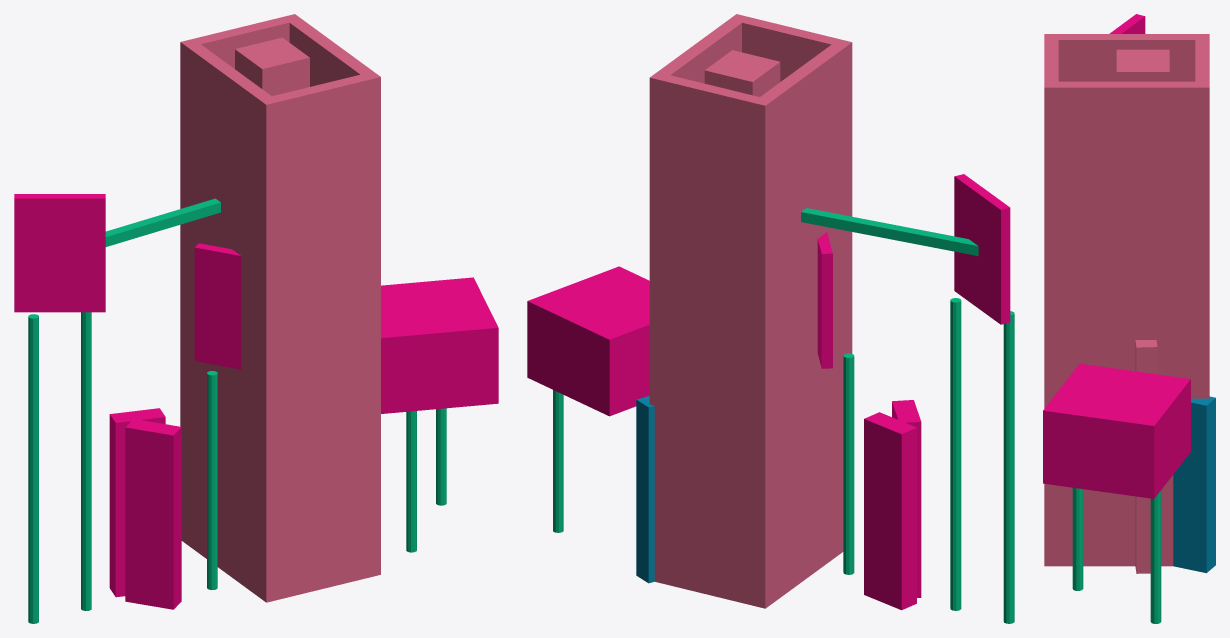
Rendered from folie_tag_122.glb.
3 renders of one model, left to right at view 1: azimuth 30°, elevation 25°; view 2: azimuth 150°, elevation 25°; view 3: azimuth 270°, elevation 25°, orthographic. The views are drawn at different scales.
Parts seen in each view (by area): view 1: folie_tag_122_00_tower, folie_tag_122_01_block, folie_tag_122_line, folie_tag_122_05_panel, folie_tag_122_03_fin, folie_tag_122_06_panel, folie_tag_122_02_fin, folie_tag_122_core; view 2: folie_tag_122_00_tower, folie_tag_122_01_block, folie_tag_122_line, folie_tag_122_02_fin, folie_tag_122_05_panel, folie_tag_122_07_fin, folie_tag_122_core, folie_tag_122_06_panel, folie_tag_122_03_fin; view 3: folie_tag_122_00_tower, folie_tag_122_01_block, folie_tag_122_07_fin, folie_tag_122_line, folie_tag_122_04_fin, folie_tag_122_core, folie_tag_122_05_panel.
Boxes of the visible parts, bbox=[...] form: folie_tag_122_00_tower: bbox=[180, 14, 380, 602]; folie_tag_122_01_block: bbox=[381, 277, 498, 413]; folie_tag_122_line: bbox=[28, 198, 446, 623]; folie_tag_122_05_panel: bbox=[14, 194, 105, 312]; folie_tag_122_03_fin: bbox=[125, 419, 181, 609]; folie_tag_122_06_panel: bbox=[194, 243, 241, 369]; folie_tag_122_02_fin: bbox=[109, 408, 165, 597]; folie_tag_122_core: bbox=[235, 37, 309, 95]; folie_tag_122_00_tower: bbox=[649, 14, 852, 608]; folie_tag_122_01_block: bbox=[527, 266, 649, 416]; folie_tag_122_line: bbox=[553, 208, 1014, 623]; folie_tag_122_02_fin: bbox=[864, 412, 916, 610]; folie_tag_122_05_panel: bbox=[954, 174, 1010, 324]; folie_tag_122_07_fin: bbox=[636, 396, 654, 583]; folie_tag_122_core: bbox=[704, 50, 780, 96]; folie_tag_122_06_panel: bbox=[817, 232, 832, 368]; folie_tag_122_03_fin: bbox=[892, 400, 921, 597]; folie_tag_122_00_tower: bbox=[1044, 34, 1209, 566]; folie_tag_122_01_block: bbox=[1043, 363, 1190, 498]; folie_tag_122_07_fin: bbox=[1173, 396, 1215, 573]; folie_tag_122_line: bbox=[1072, 488, 1161, 623]; folie_tag_122_04_fin: bbox=[1135, 340, 1157, 573]; folie_tag_122_core: bbox=[1116, 49, 1169, 81]; folie_tag_122_05_panel: bbox=[1109, 14, 1145, 33].
Bounding box in the file's own units: 10.84 × 11 × 3.6.
